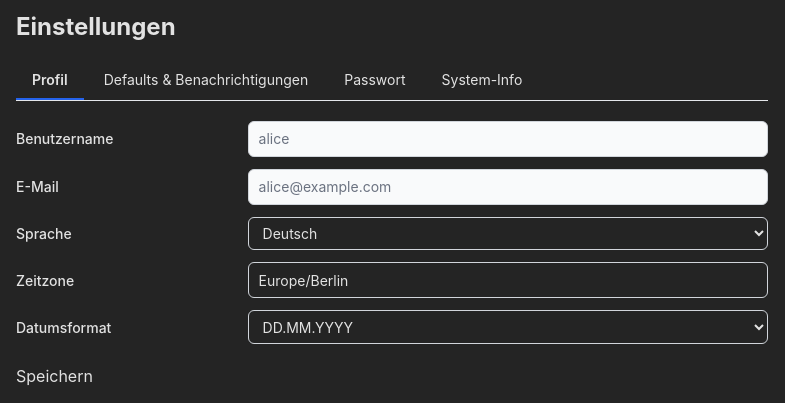
Scenario: SettingsView › loads system info on mount and displays version
Click the tab "System-Info" at [482, 80], box [426,61,538,100]
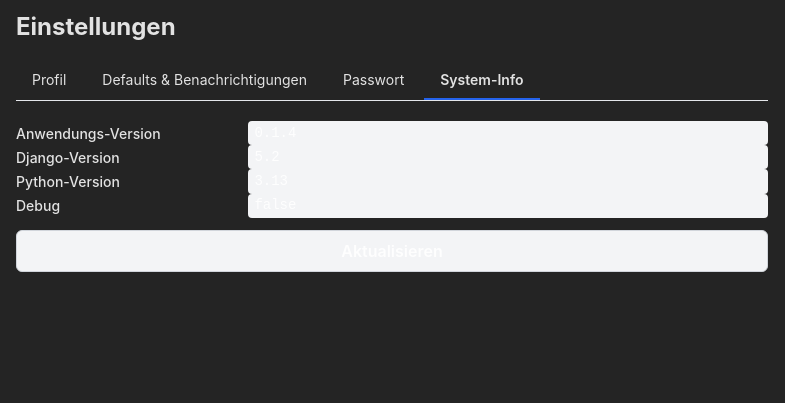
Expected: the text "0.1.4" is shown, [248,121,768,145]
